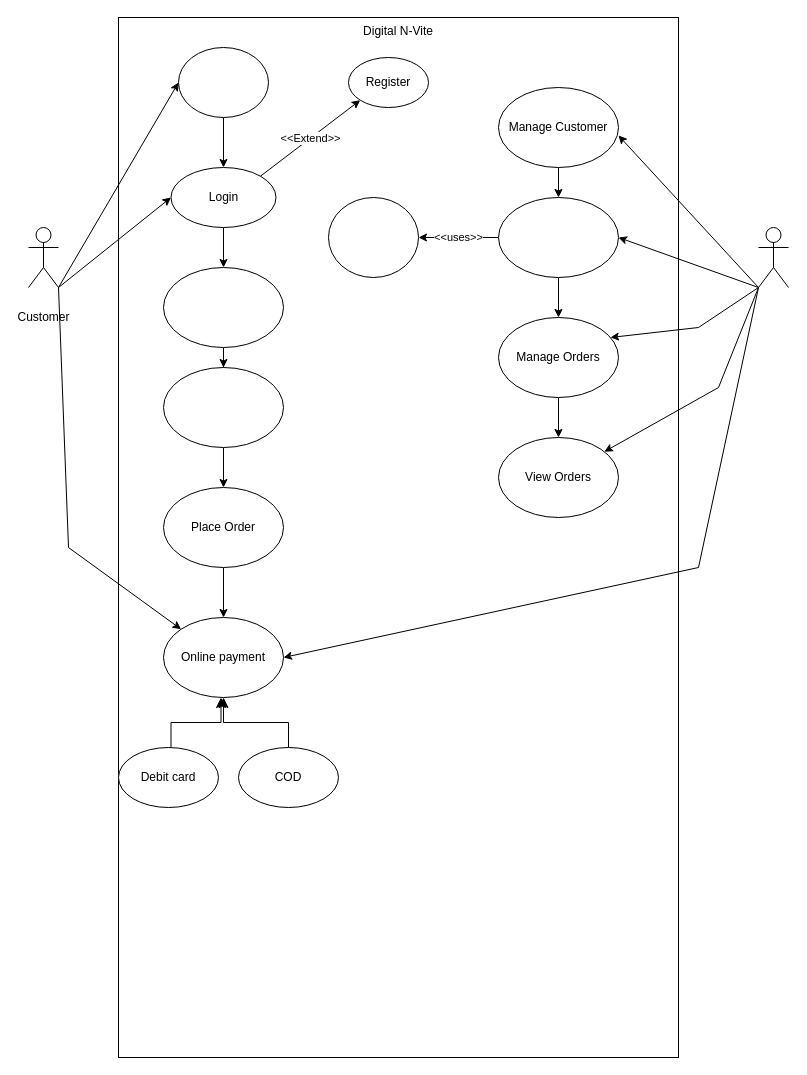
Some shapes in this 807 by 1075 pixel diagram are drawn without their labels. The centre of each missing label's shape, as x and y in pixels:
"Admin" belongs at [773,257].
"Browse Card" belongs at [223,82].
"Customize Order" belongs at [223,307].
"Manage Category" belongs at [558,237].
"Send Invitation" belongs at [223,407].
"Sub-Category" belongs at [373,237].
